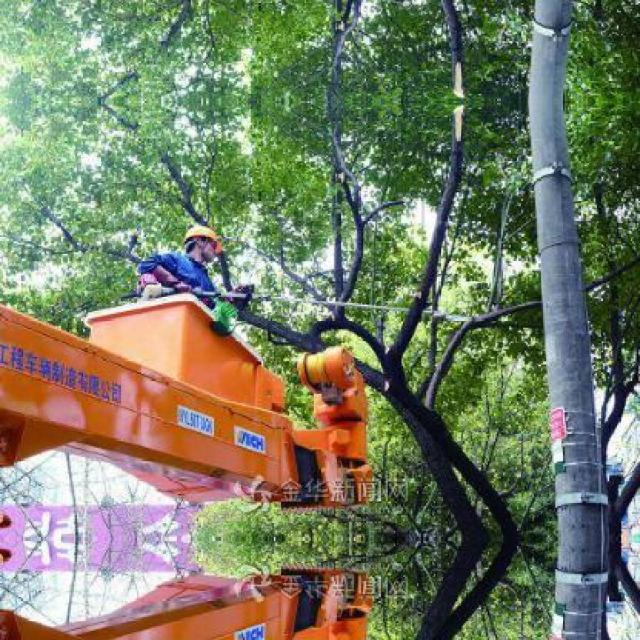helmet: (180, 222, 223, 264)
